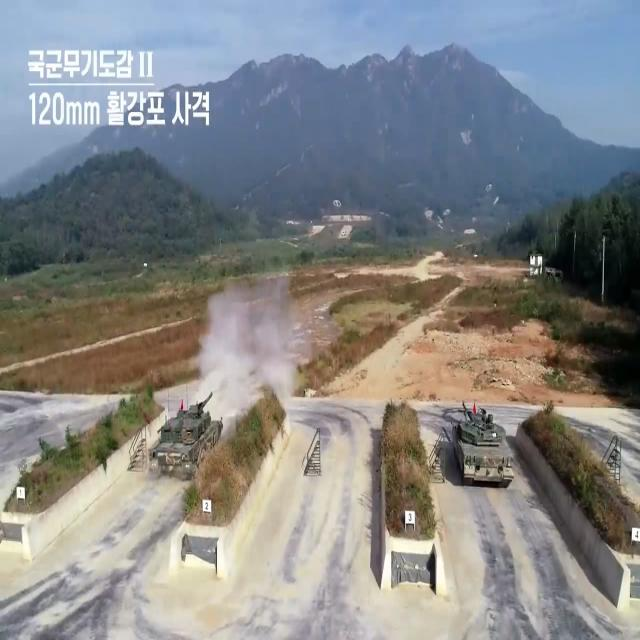korea tank: (148, 387, 224, 480)
